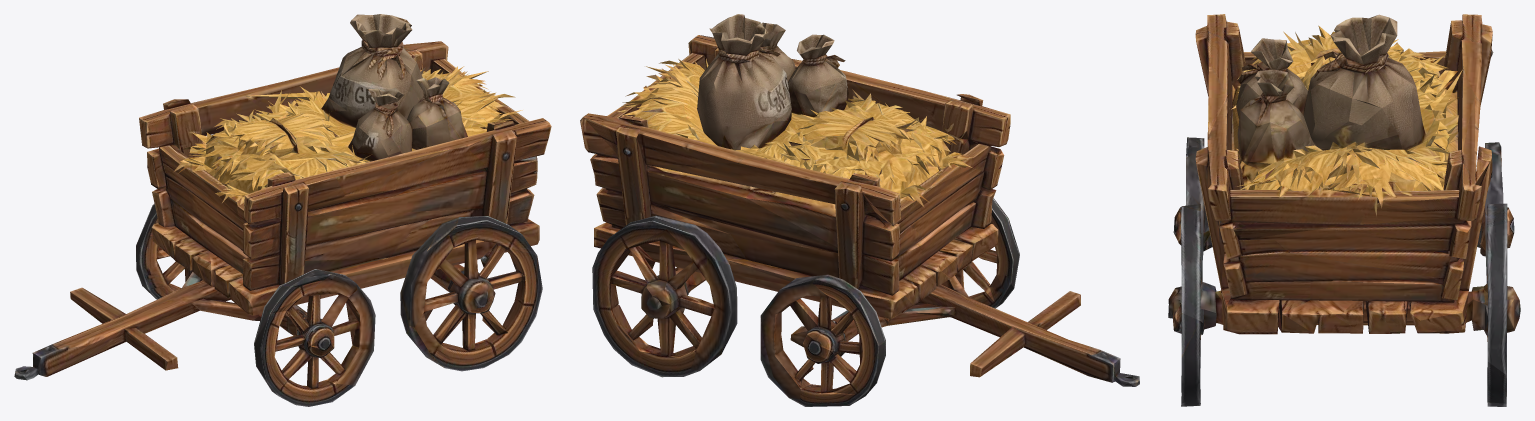
The model's file is camp_charrette.glb.
3 renders of one model, left to right at view 1: azimuth 30°, elevation 25°; view 2: azimuth 150°, elevation 25°; view 3: azimuth 270°, elevation 25°, orthographic. The views are drawn at different scales.
Bounding box in the file's own units: 1.9 × 1.12 × 0.9952.
Materials: 1 (1 with a texture image).
